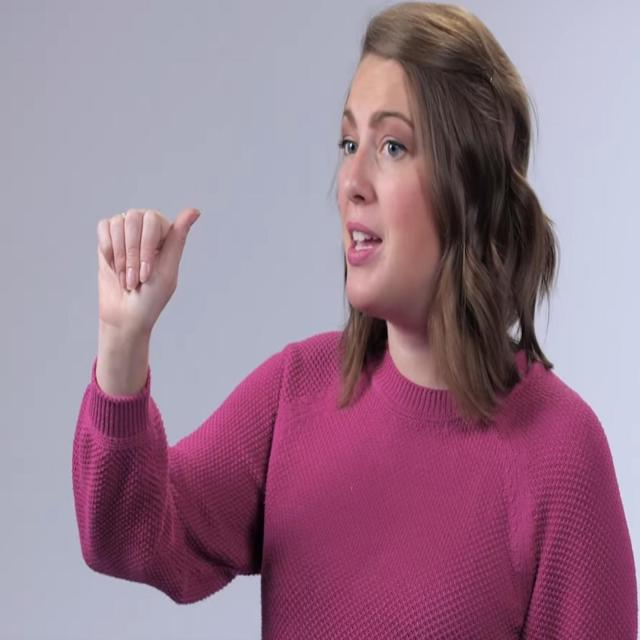A: (94, 202, 202, 334)
